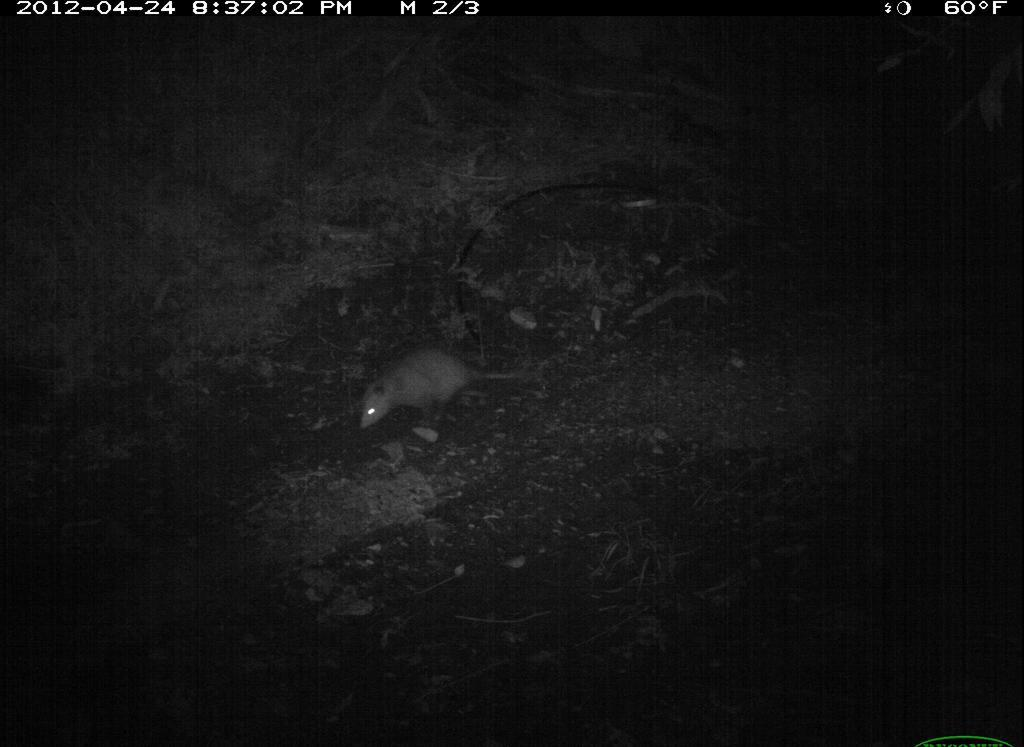opossum: (349, 338, 542, 442)
